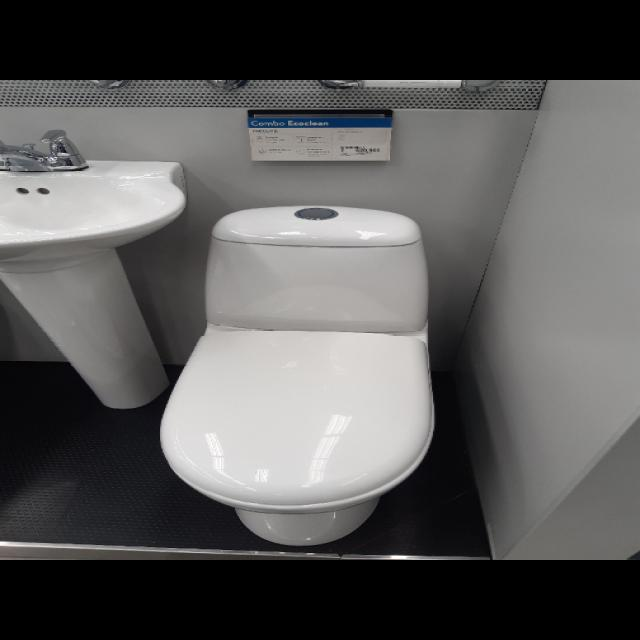toilet: (159, 204, 434, 546)
